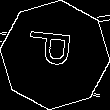P_E: (28, 34, 82, 76)
